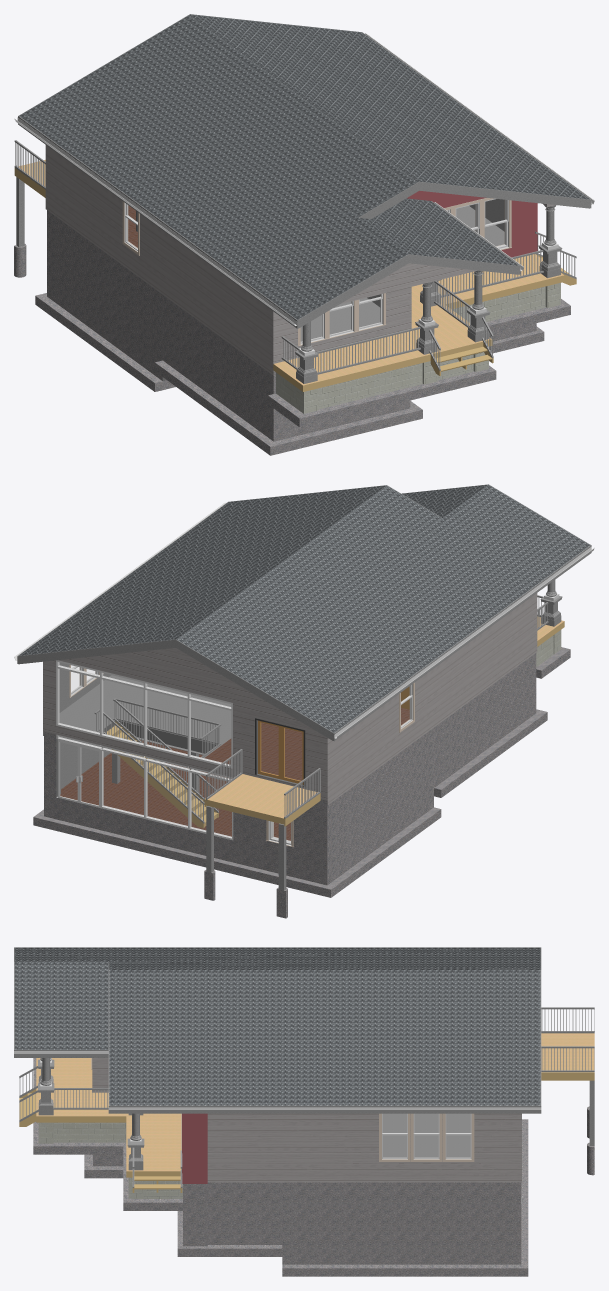
The model's file is SampleElevation.glb.
3 views of the same model, one above another, from view 1: azimuth 30°, elevation 25°; view 2: azimuth 150°, elevation 25°; view 3: azimuth 270°, elevation 25° (orthographic). The views are drawn at different scales.
Visible parts, largest first — view 1: Wood Rafter 8" - Asphalt Shingle - Insulated.273, Exterior - Siding.16, Wood Rafter 8" - Asphalt Shingle - Insulated.274, Foundation - 8" Finish.17, Deck.178, Foundation - 8".14, Fascia-Flat 1x12.276, Exterior - Siding.4, Foundation.44, Bearing Footing - 30" x 12".74, Bearing Footing - 30" x 12".63, Exterior - Brick.8 (+23 smaller); view 2: Wood Rafter 8" - Asphalt Shingle - Insulated.273, Exterior - Siding.16, Exterior - Siding.5, Foundation - 8" Finish.9, Foundation - 8" Finish.17, Wood Rafter 8" - Asphalt Shingle - Insulated.274, Carpet.175, Foundation - 8".14, VCT.176, Fascia-Flat 1x12.276, Bearing Footing - 30" x 12".69, Deck.177 (+17 smaller); view 3: Wood Rafter 8" - Asphalt Shingle - Insulated.273, Foundation - 8" Finish.10, Exterior - Siding.6, Wood Rafter 8" - Asphalt Shingle - Insulated.274, Deck.178, Foundation - 8" Finish.15, Fascia-Flat 1x12.276, Bearing Footing - 30" x 12".68, Carpet.175, Gutter - Bevel 5" x 5".278, Deck.177, Exterior - Brick.7 (+23 smaller).
Part boxes in pixels (x1=…): Wood Rafter 8" - Asphalt Shingle - Insulated.273: x1=19, y1=14, x2=589, y2=283; Exterior - Siding.16: x1=45, y1=145, x2=273, y2=375; Wood Rafter 8" - Asphalt Shingle - Insulated.274: x1=247, y1=198, x2=519, y2=319; Foundation - 8" Finish.17: x1=51, y1=214, x2=166, y2=380; Deck.178: x1=273, y1=254, x2=564, y2=391; Foundation - 8".14: x1=175, y1=304, x2=270, y2=438; Fascia-Flat 1x12.276: x1=18, y1=14, x2=591, y2=328; Exterior - Siding.4: x1=273, y1=287, x2=411, y2=363; Foundation.44: x1=317, y1=354, x2=473, y2=409; Bearing Footing - 30" x 12".74: x1=317, y1=365, x2=496, y2=422; Bearing Footing - 30" x 12".63: x1=258, y1=401, x2=422, y2=455; Exterior - Brick.8: x1=407, y1=190, x2=537, y2=257; Wood Rafter 8" - Asphalt Shingle - Insulated.273: x1=18, y1=485, x2=544, y2=732; Exterior - Siding.16: x1=327, y1=593, x2=537, y2=805; Exterior - Siding.5: x1=43, y1=648, x2=327, y2=800; Foundation - 8" Finish.9: x1=44, y1=731, x2=331, y2=885; Foundation - 8" Finish.17: x1=331, y1=728, x2=433, y2=881; Wood Rafter 8" - Asphalt Shingle - Insulated.274: x1=402, y1=484, x2=590, y2=578; Carpet.175: x1=59, y1=675, x2=231, y2=757; Foundation - 8".14: x1=445, y1=655, x2=533, y2=779; VCT.176: x1=60, y1=740, x2=290, y2=840; Fascia-Flat 1x12.276: x1=17, y1=484, x2=591, y2=741; Bearing Footing - 30" x 12".69: x1=53, y1=819, x2=340, y2=897; Deck.177: x1=205, y1=774, x2=317, y2=824; Wood Rafter 8" - Asphalt Shingle - Insulated.273: x1=109, y1=947, x2=540, y2=1105; Foundation - 8" Finish.10: x1=282, y1=1182, x2=511, y2=1264; Exterior - Siding.6: x1=207, y1=1113, x2=521, y2=1182; Wood Rafter 8" - Asphalt Shingle - Insulated.274: x1=14, y1=947, x2=109, y2=1049; Deck.178: x1=36, y1=1058, x2=181, y2=1177; Foundation - 8" Finish.15: x1=207, y1=1182, x2=282, y2=1244; Fascia-Flat 1x12.276: x1=14, y1=947, x2=541, y2=1113; Bearing Footing - 30" x 12".68: x1=282, y1=1258, x2=528, y2=1276; Carpet.175: x1=383, y1=1113, x2=470, y2=1157; Gutter - Bevel 5" x 5".278: x1=14, y1=1051, x2=541, y2=1111; Deck.177: x1=541, y1=1033, x2=594, y2=1070; Exterior - Brick.7: x1=182, y1=1113, x2=207, y2=1183.
Size of the model in its own units: 41.12 by 27.51 by 62.39.
Materials: 285 (110 with a texture image).
